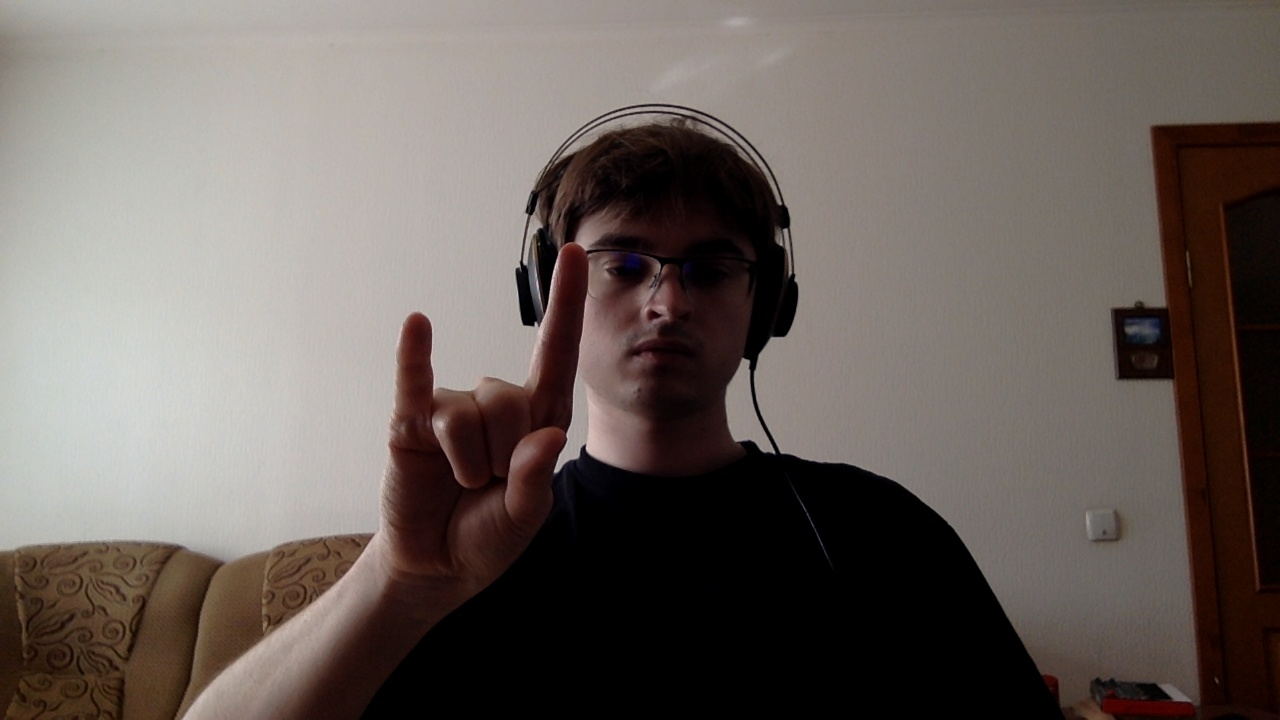i love you: (342, 227, 609, 605)
